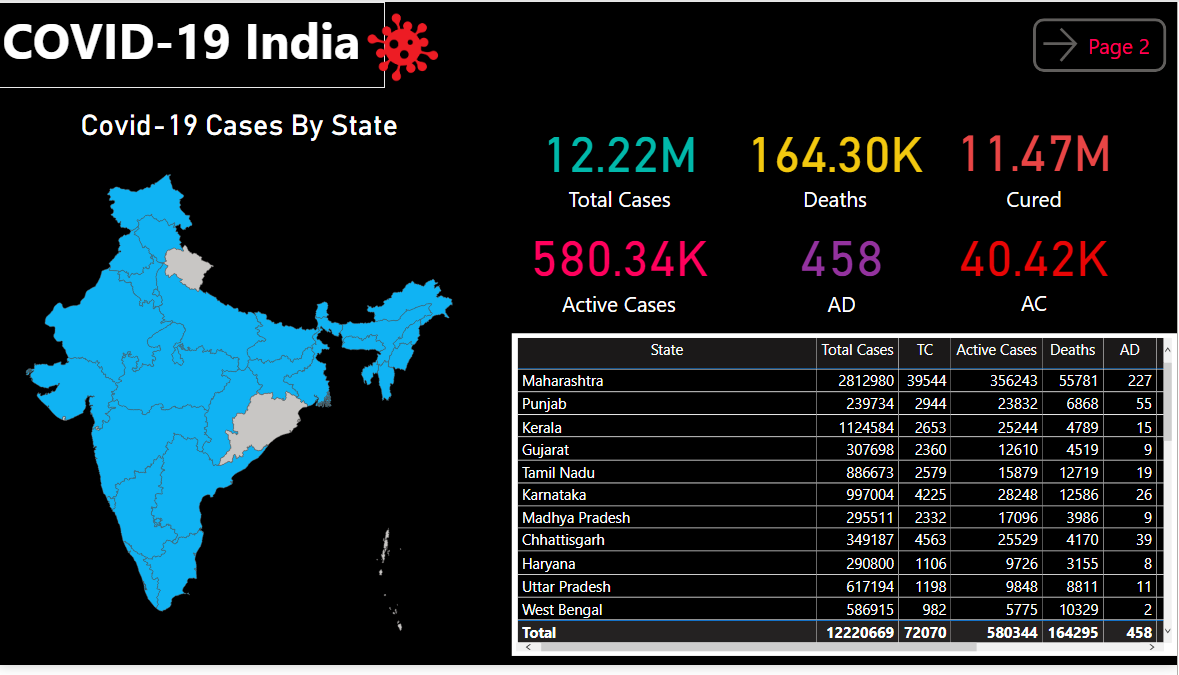

The page's visual inventory and layout, read from the dashboard file:
{"tool":"powerbi","page":{"name":"Page 1","canvas":[1280,720],"ordinal":0},"visuals":[{"type":"tableEx","fields":{"Values":["Table 1 (3).State","Sum(Table 1 (3).Total Cases)","Sum(Table 1 (3).TC)","Sum(Table 1 (3).Active Cases)","Sum(Table 1 (3).Deaths)","Sum(Table 1 (3).AD)","Sum(Table 1 (3).Cured)","Sum(Table 1 (3).AC)"]},"box":[554.8,286.8,722.5,349.1],"z":0},{"type":"shapeMap","title":"Covid-19 Cases By State","fields":{"Category":["Table 1 (3).State"]},"box":[0,115.6,524.4,604.2],"z":1000},{"type":"textbox","box":[0,0,419,94.3],"z":2000},{"type":"card","fields":{"Values":["Sum(Table 1 (3).Total Cases)"]},"box":[560.2,116.4,228.7,113.7],"z":3000},{"type":"card","fields":{"Values":["Sum(Table 1 (3).Deaths)"]},"box":[801,116.4,216.5,113.7],"z":4000},{"type":"card","fields":{"Values":["Sum(Table 1 (3).Cured)"]},"box":[1029.7,115,189.4,115],"z":5000},{"type":"card","fields":{"Values":["Sum(Table 1 (3).Active Cases)"]},"box":[560.5,230.4,227.7,113.2],"z":6000},{"type":"card","fields":{"Values":["Sum(Table 1 (3).AD)"]},"box":[813.8,230.4,203.5,113.2],"z":7000},{"type":"card","fields":{"Values":["Sum(Table 1 (3).AC)"]},"box":[1029.7,230,189.4,113.7],"z":8000},{"type":"image","box":[363.6,0,150.7,94.5],"z":9000},{"type":"actionButton","box":[1124.4,17.6,144.8,58.2],"z":9001}]}

Visuals, with their boxes in screenshot pixels (x1, y1, x2, y2), scaled from the page's 1280x720 canvas onto the 1179x675 screenshot:
tableEx - Table 1 (3).State x Sum(Table 1 (3).Total Cases): <bbox>511, 269, 1177, 596</bbox>
"Covid-19 Cases By State" shapeMap: <bbox>0, 108, 483, 674</bbox>
textbox: <bbox>0, 0, 386, 88</bbox>
card - Sum(Table 1 (3).Total Cases): <bbox>516, 109, 727, 216</bbox>
card - Sum(Table 1 (3).Deaths): <bbox>738, 109, 937, 216</bbox>
card - Sum(Table 1 (3).Cured): <bbox>948, 108, 1123, 216</bbox>
card - Sum(Table 1 (3).Active Cases): <bbox>516, 216, 726, 322</bbox>
card - Sum(Table 1 (3).AD): <bbox>750, 216, 937, 322</bbox>
card - Sum(Table 1 (3).AC): <bbox>948, 216, 1123, 322</bbox>
image: <bbox>335, 0, 474, 89</bbox>
actionButton: <bbox>1036, 16, 1169, 71</bbox>
